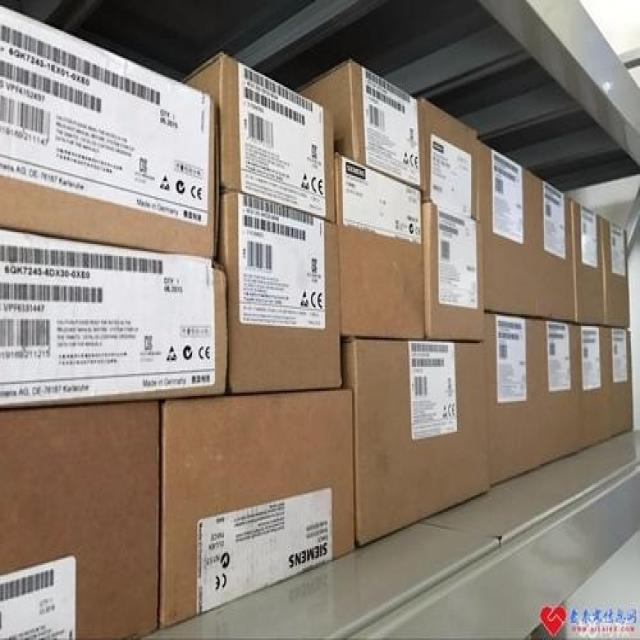box: (0, 5, 219, 259), (160, 387, 356, 630), (0, 229, 228, 410), (0, 401, 160, 640), (342, 340, 492, 548), (216, 191, 342, 394), (186, 53, 335, 222), (337, 152, 426, 338), (300, 60, 424, 189), (477, 142, 536, 316), (484, 312, 540, 485), (424, 203, 484, 341), (421, 97, 480, 220), (531, 174, 576, 323), (536, 319, 579, 464), (573, 198, 605, 324), (576, 326, 607, 451), (605, 328, 634, 439), (603, 217, 630, 328)
